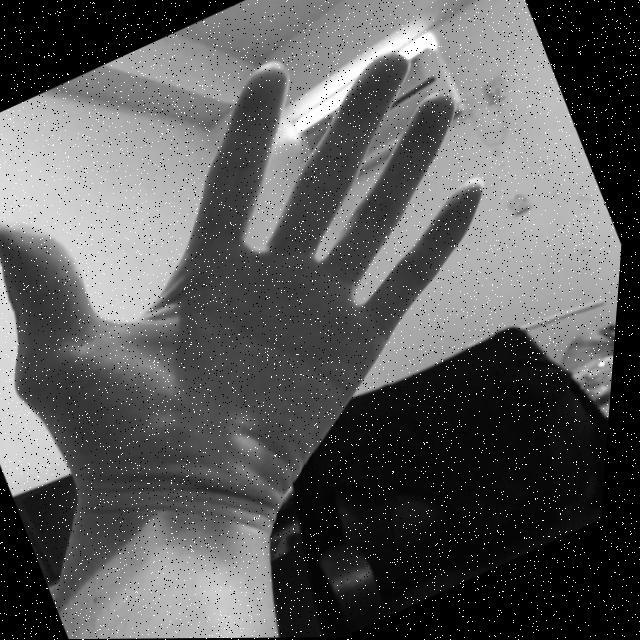no-gloves: (0, 0, 604, 610)
